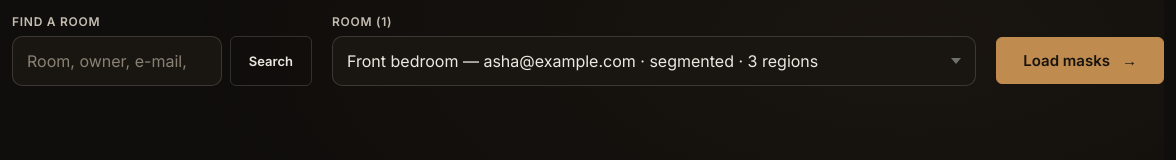
Scenario: MaskViewer — reaching rooms the admin does not own › surfaces a failed search instead of blanking the list
Click the button "Search" at [271, 61], box [230, 36, 312, 86]
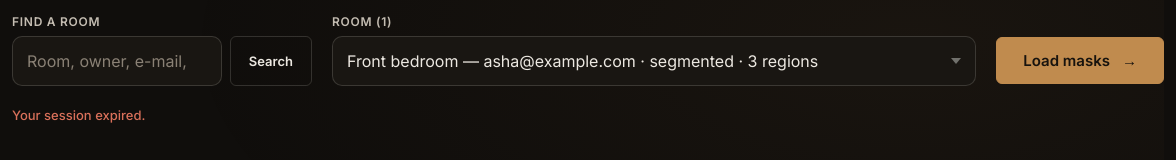
Expected: the dropdown labelled "Room (1)" shows "Front bedroom — asha@example.com · segmented · 3 regions", [332, 36, 976, 86]
Expected: the message reads "Your session expired.", [12, 107, 145, 123]
